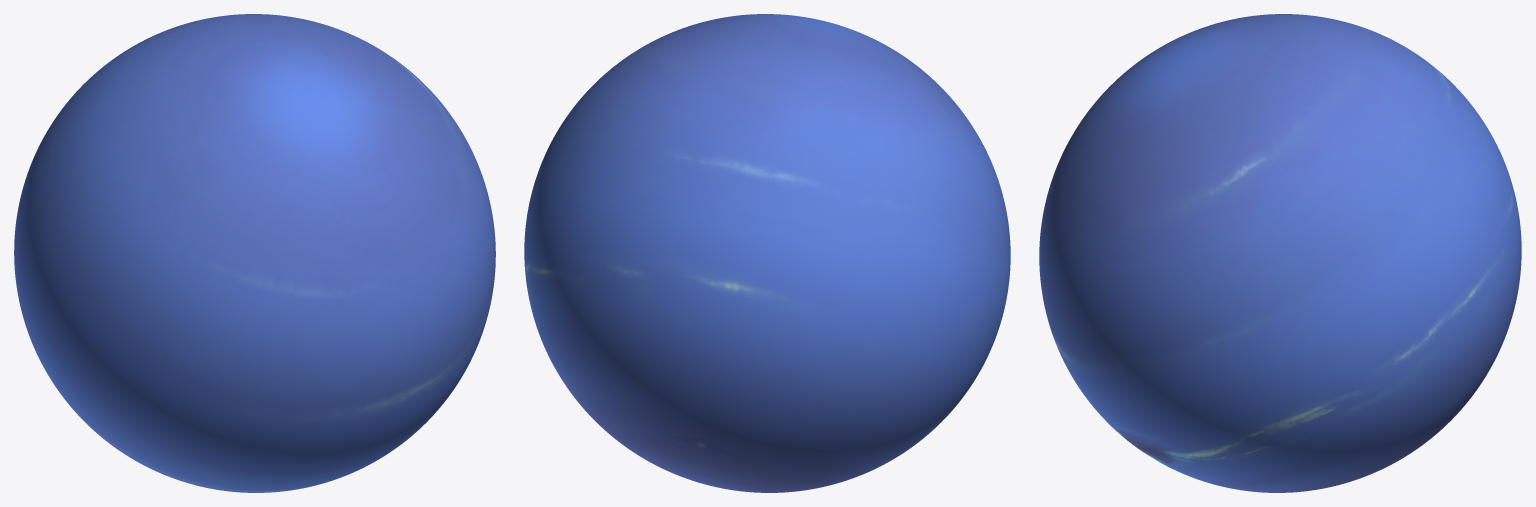
File: 8_neptune.gltf
3 views of the same model, side by side, from view 1: azimuth 30°, elevation 25°; view 2: azimuth 150°, elevation 25°; view 3: azimuth 270°, elevation 25° (orthographic).
Visible parts, largest first — view 1: Neptune_globe; view 2: Neptune_globe; view 3: Neptune_globe.
Boxes of the visible parts, left/top/right/bottom form: Neptune_globe: left=14, top=14, right=495, bottom=492; Neptune_globe: left=524, top=14, right=1010, bottom=492; Neptune_globe: left=1039, top=14, right=1521, bottom=492.
Size of the model in its own units: 49.53 by 48.87 by 49.34.
Materials: 1 (1 with a texture image).
